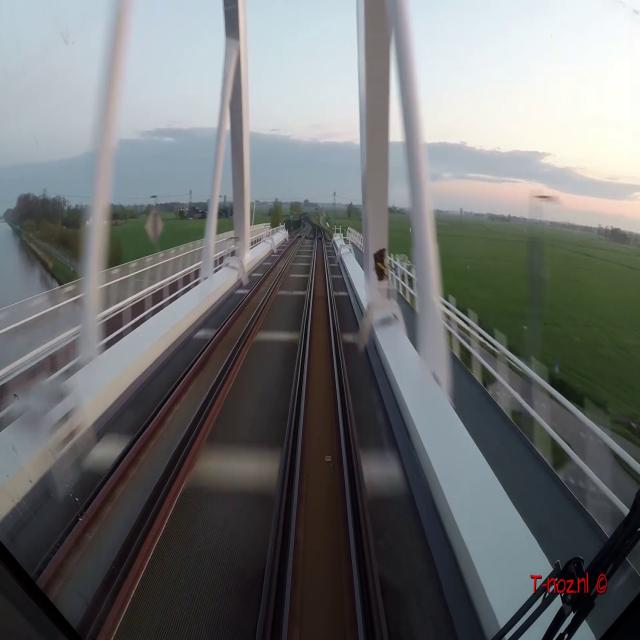rail-track: (39, 218, 309, 624), (270, 224, 358, 639)
